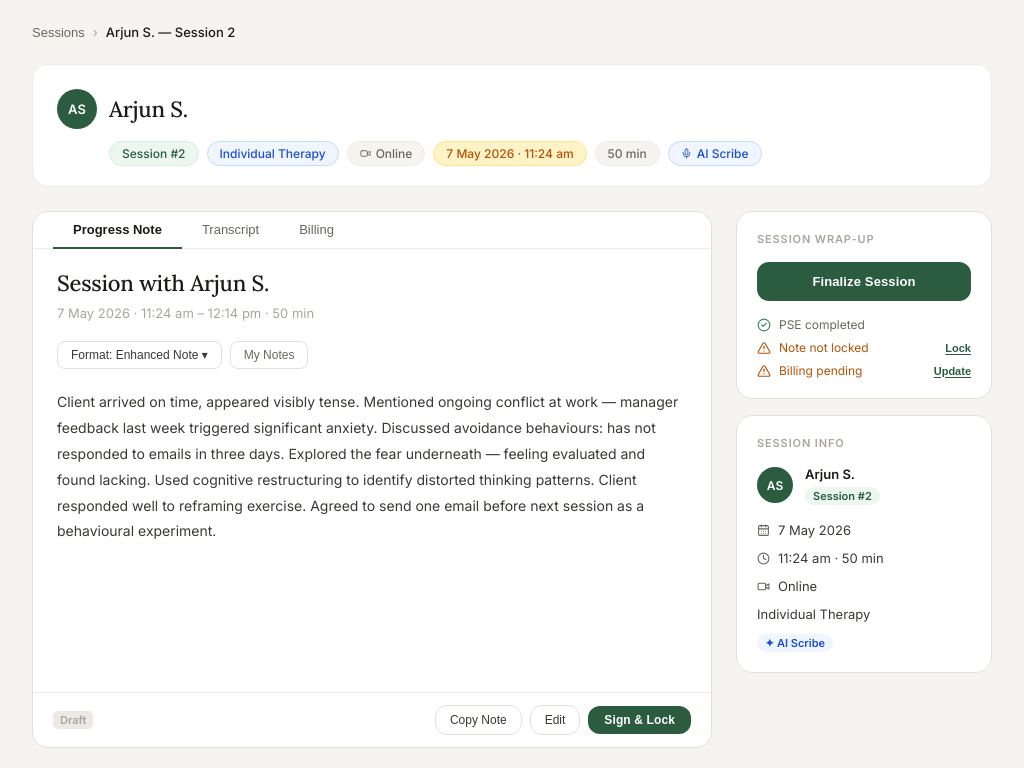
Test: <SessionNotes> billing tab › renders invoice rows in the billing tab
Click the button "Billing" at x=317, y=230, box [279,212,354,249]
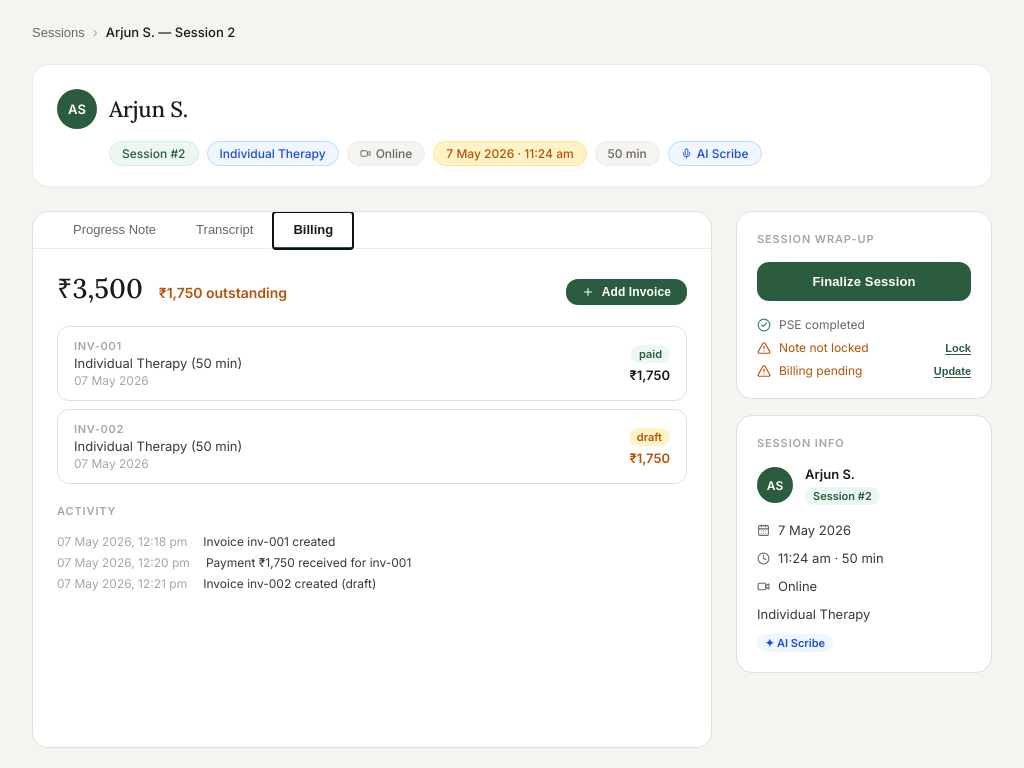
expect the text "inv-001" is shown: met, box [74,339,122,353]
expect the text "inv-002" is shown: met, box [74,422,124,436]
